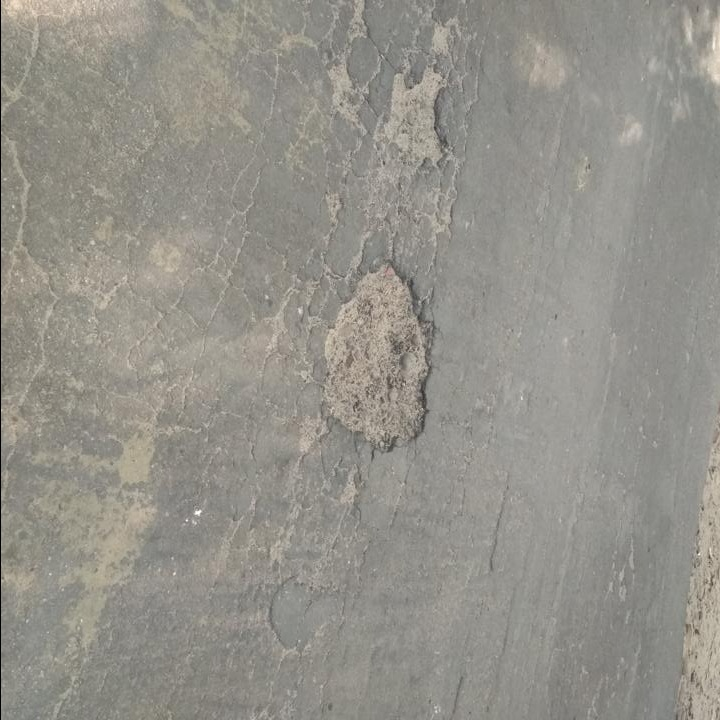pothole: (319, 256, 438, 454), (383, 60, 454, 171)
